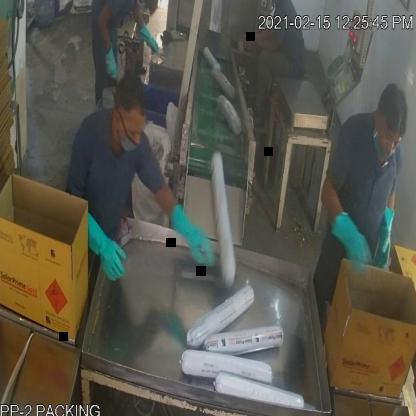glove: (82, 205, 128, 293), (167, 199, 217, 276), (327, 204, 376, 279), (372, 200, 398, 286), (98, 10, 119, 85), (134, 3, 158, 62)
no_glove: (244, 29, 277, 62)
